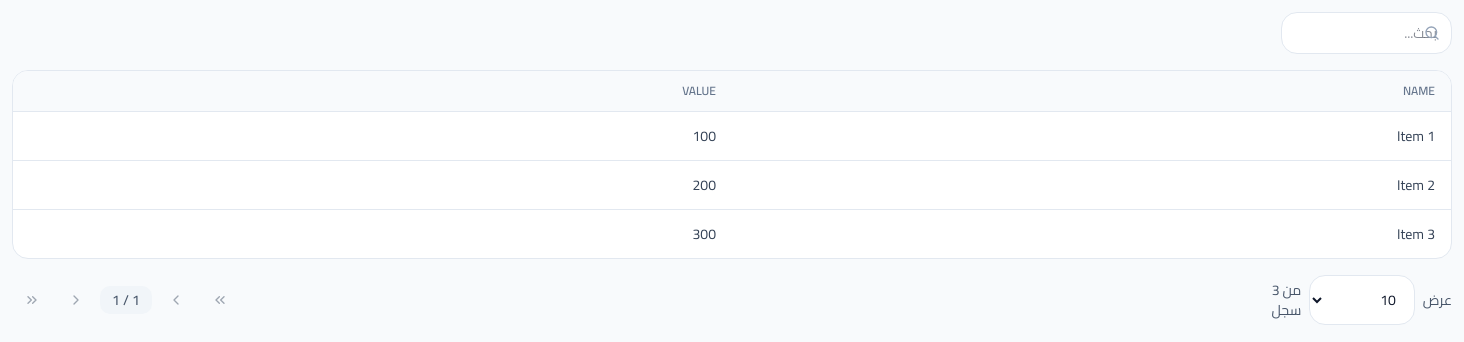
Test: DataTablePro › filters data when searching
Type "Item 1" into the field with placeholder "بحث...".
click(1366, 33); type("Item 1")  # box [1281,12,1452,54]
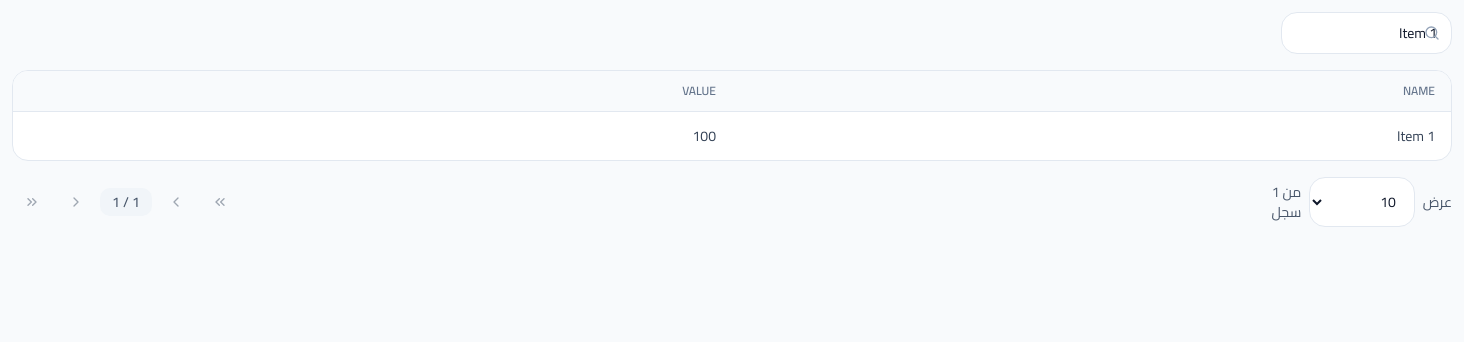
Check: the text "Item 1" is shown, box [732,112,1451,160]
Check: the text "Item 2" is gone
